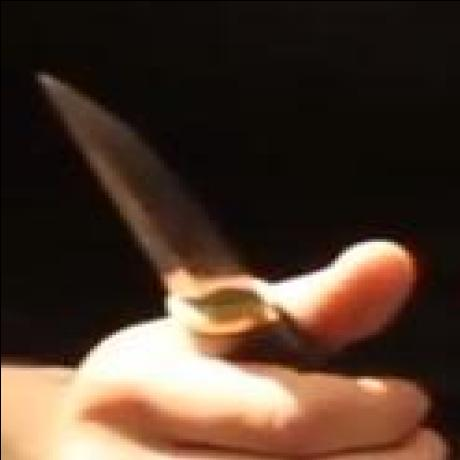weapon: (37, 69, 318, 372)
